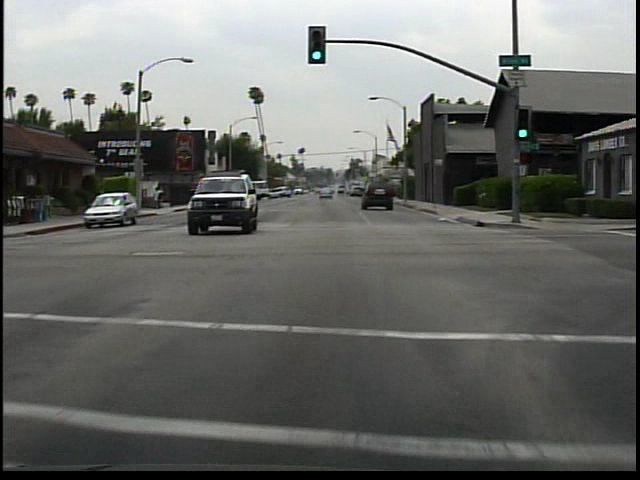person: (153, 182, 167, 211)
